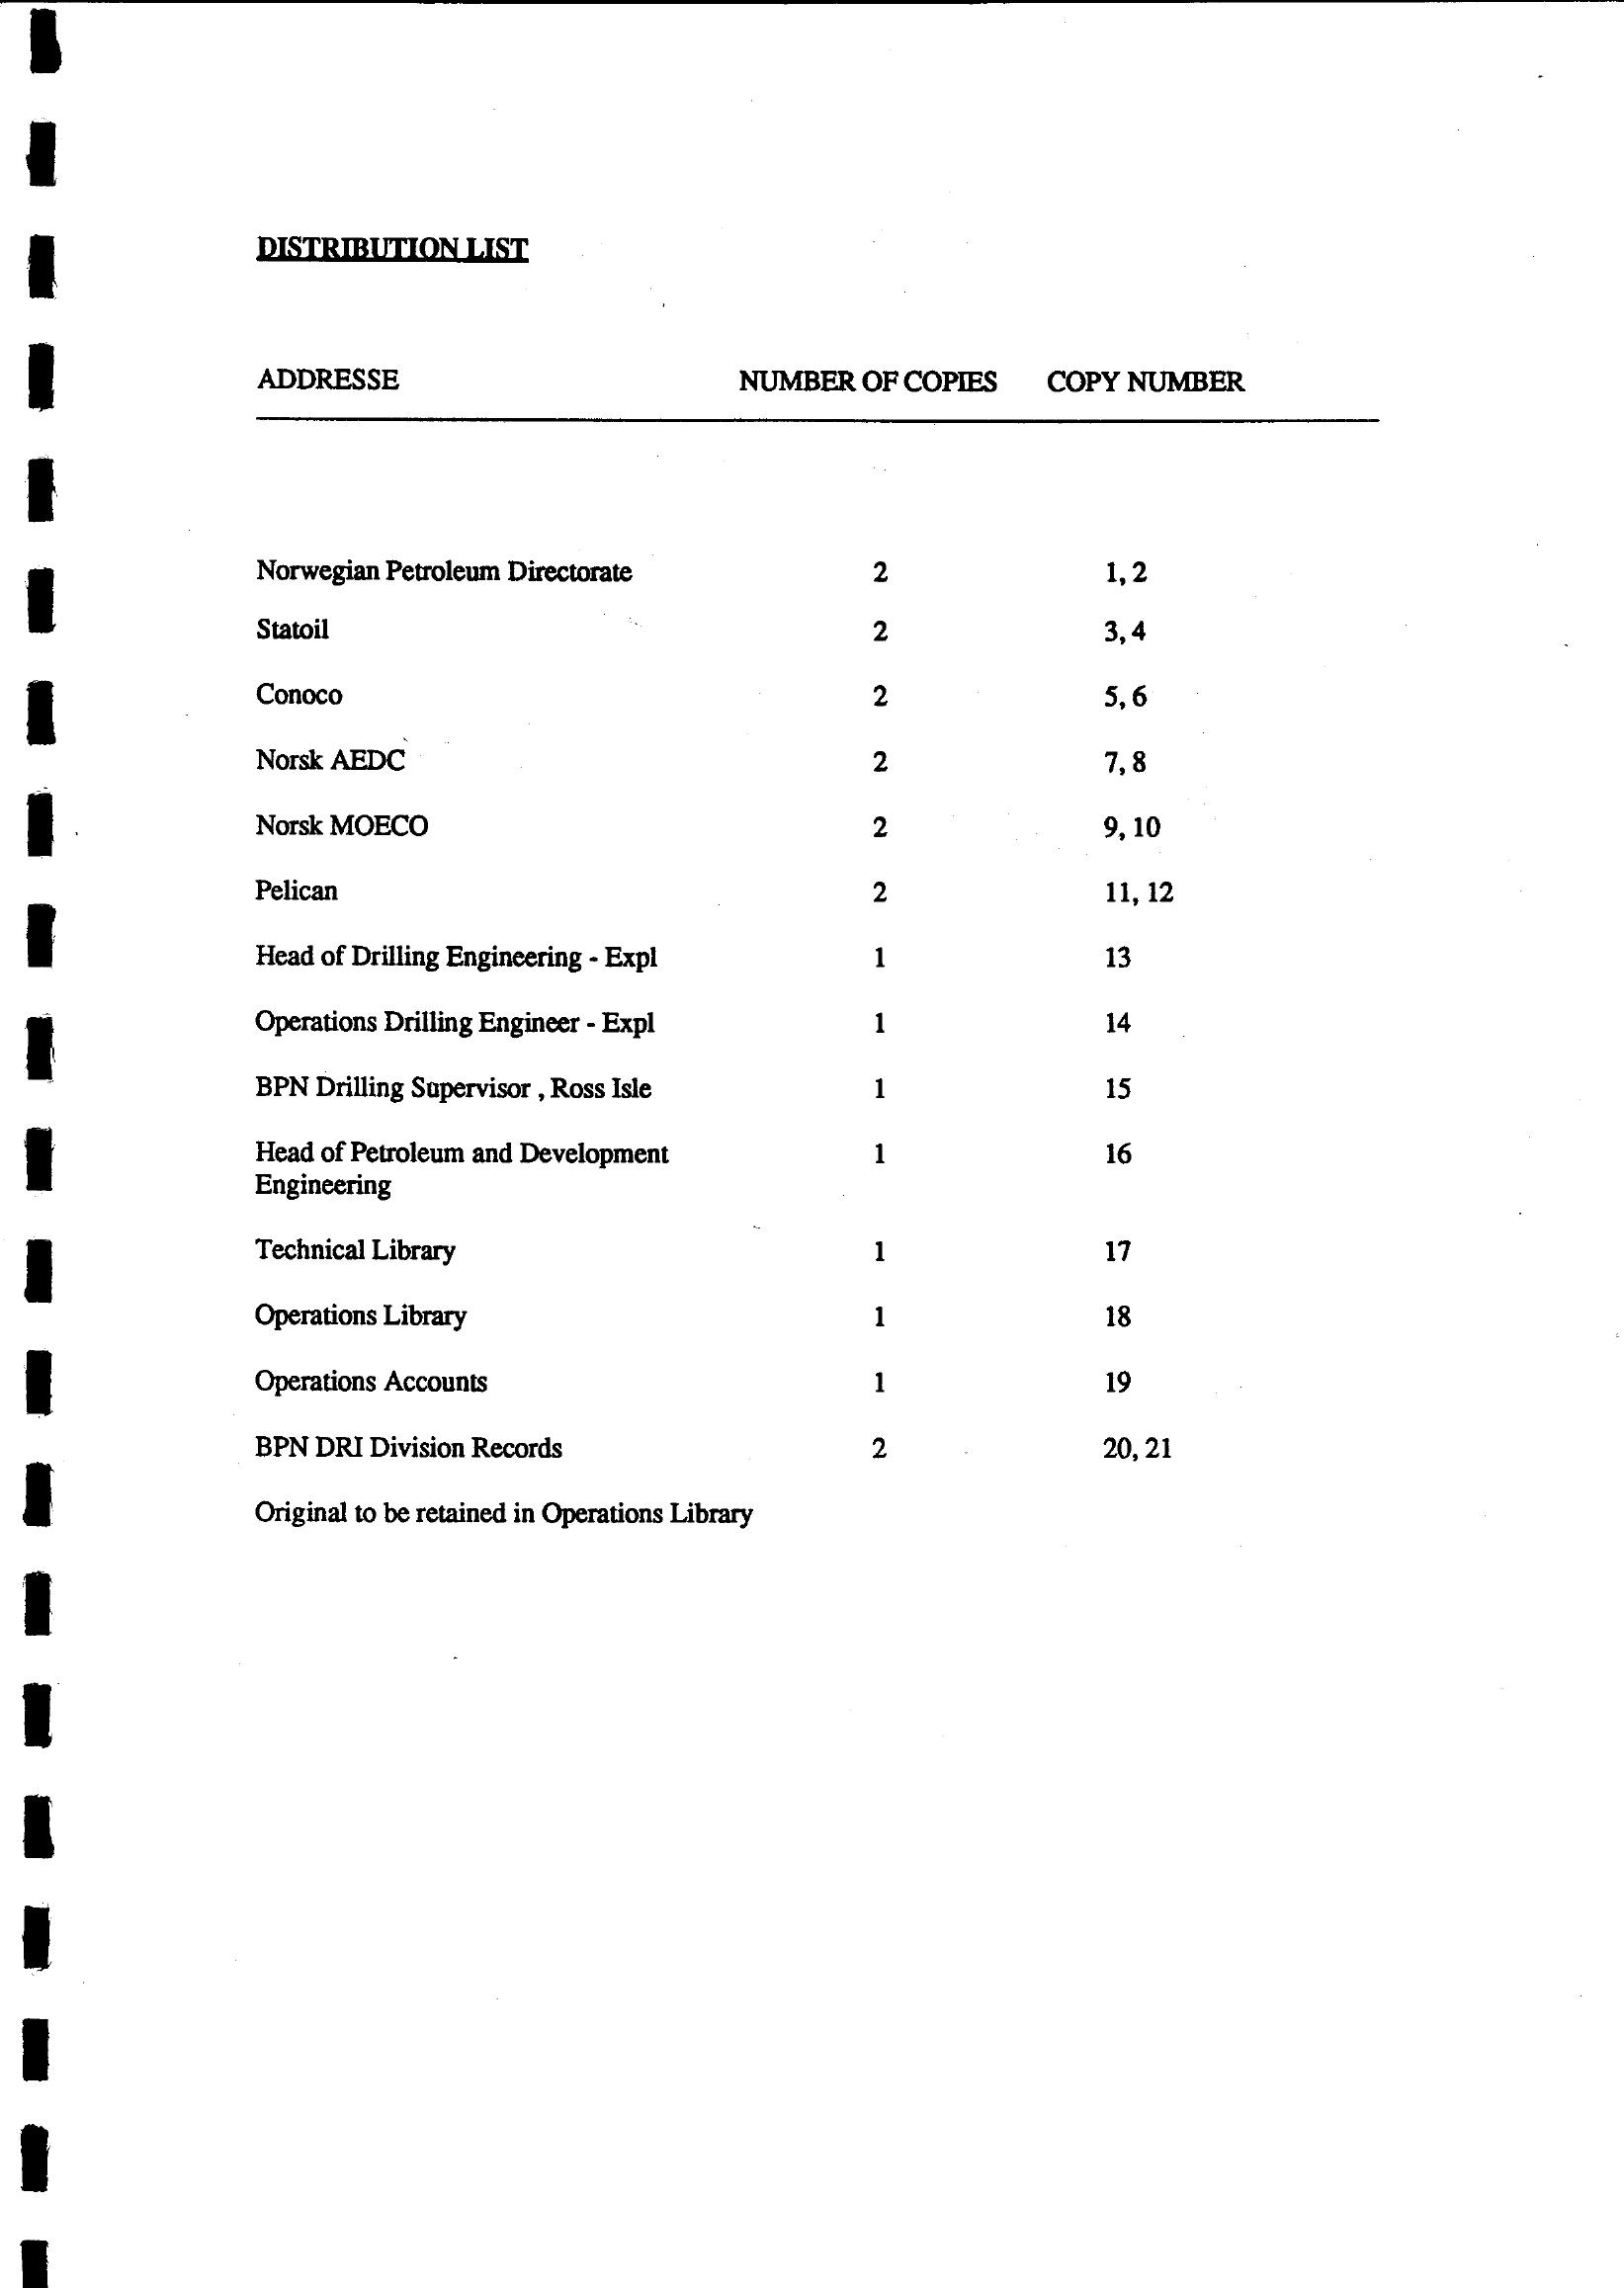table: (216, 193, 1457, 1622)
